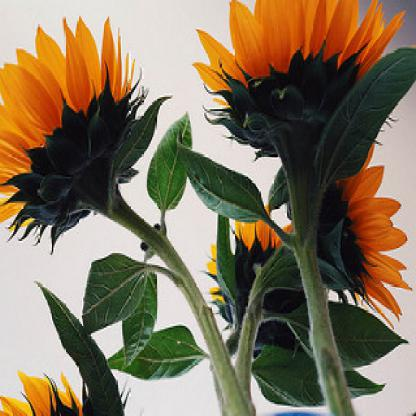SUN FLOWER: (4, 10, 409, 261)
